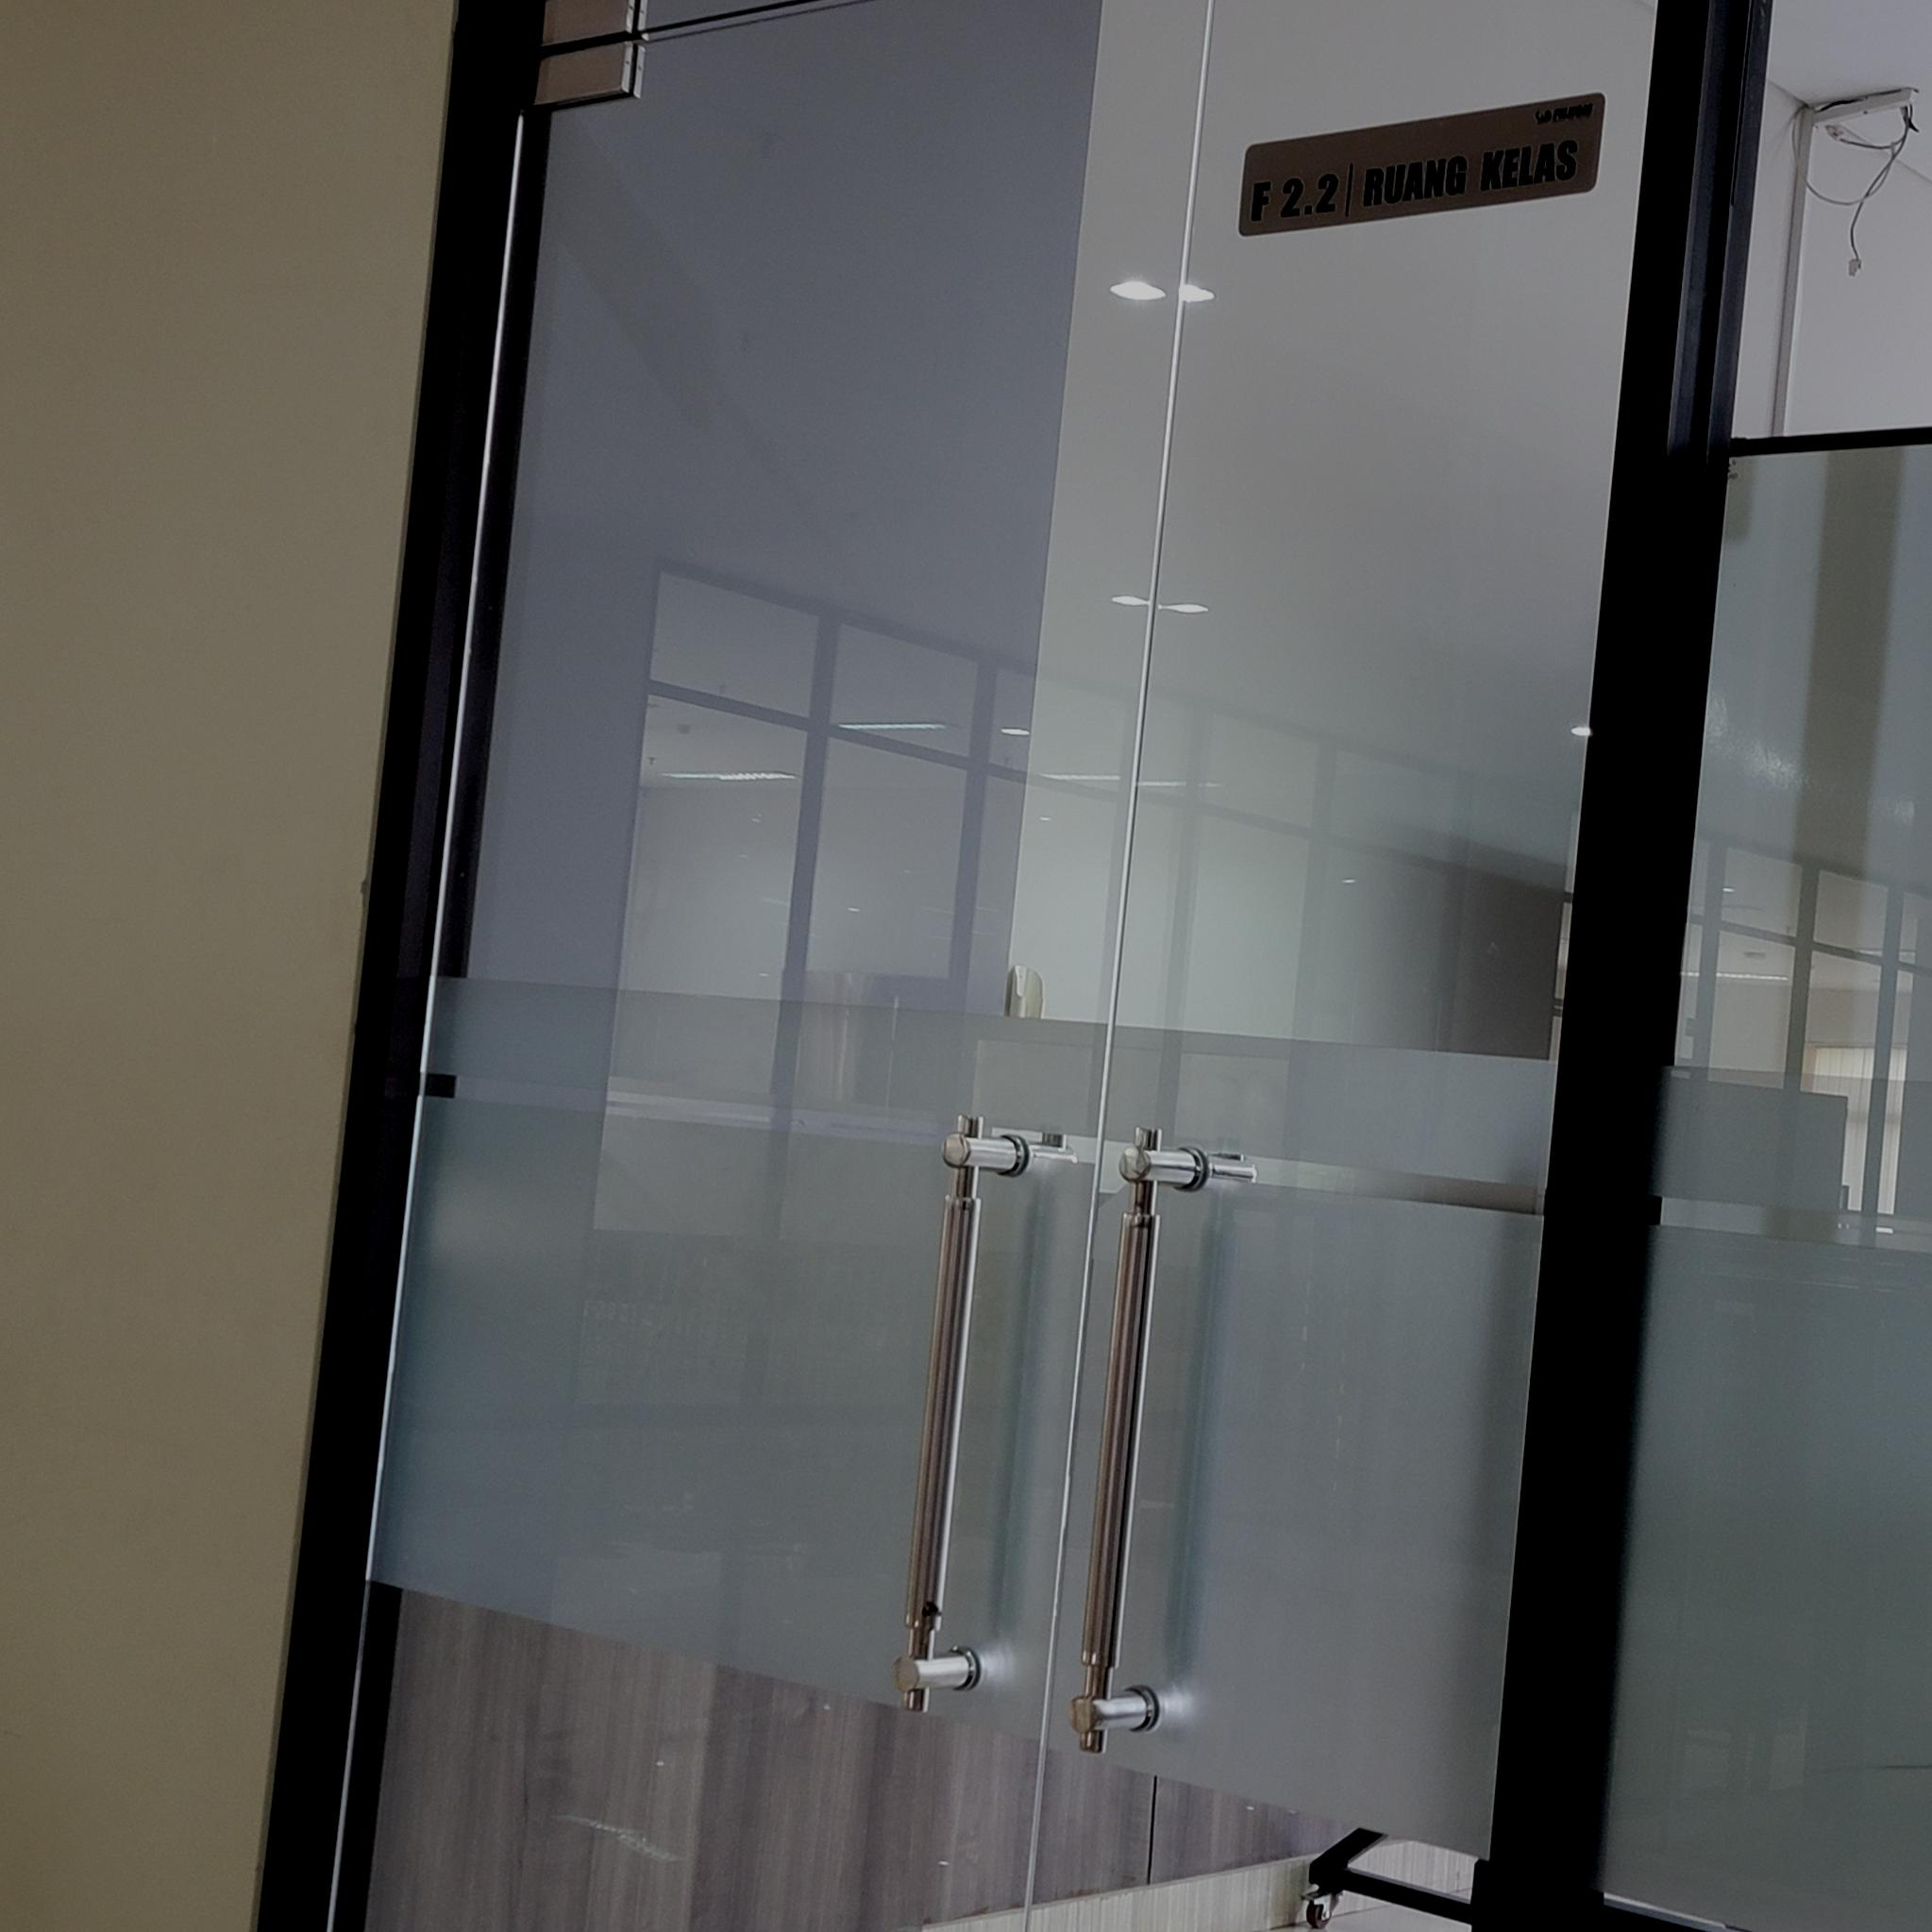plate: (1242, 94, 1606, 235)
